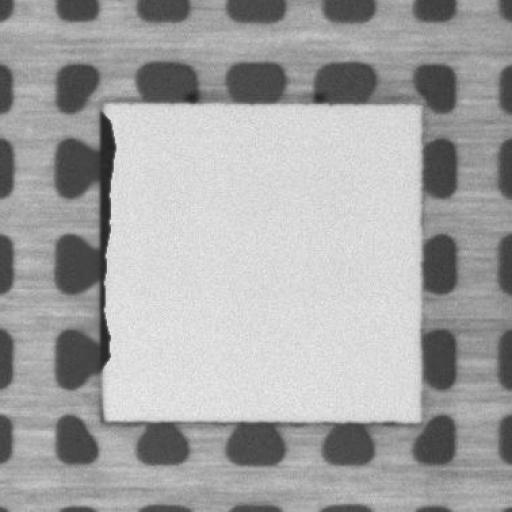DIE_BROKEN: (94, 106, 118, 376)
